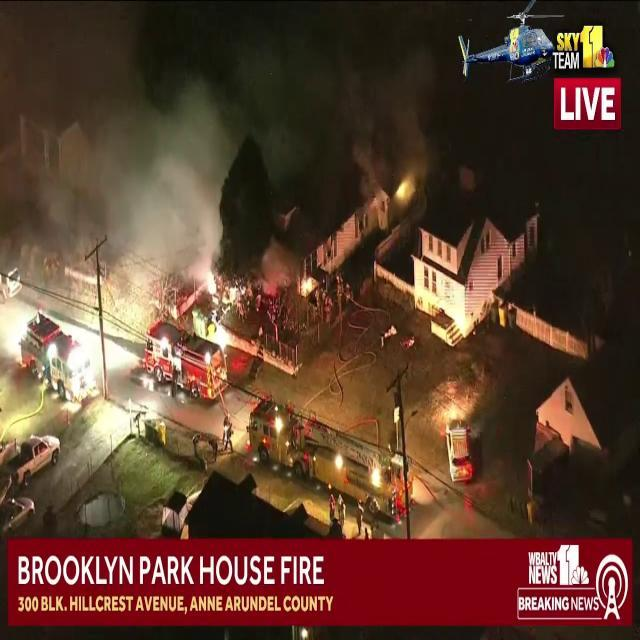Smoke: (0, 0, 238, 307), (236, 0, 434, 183)
